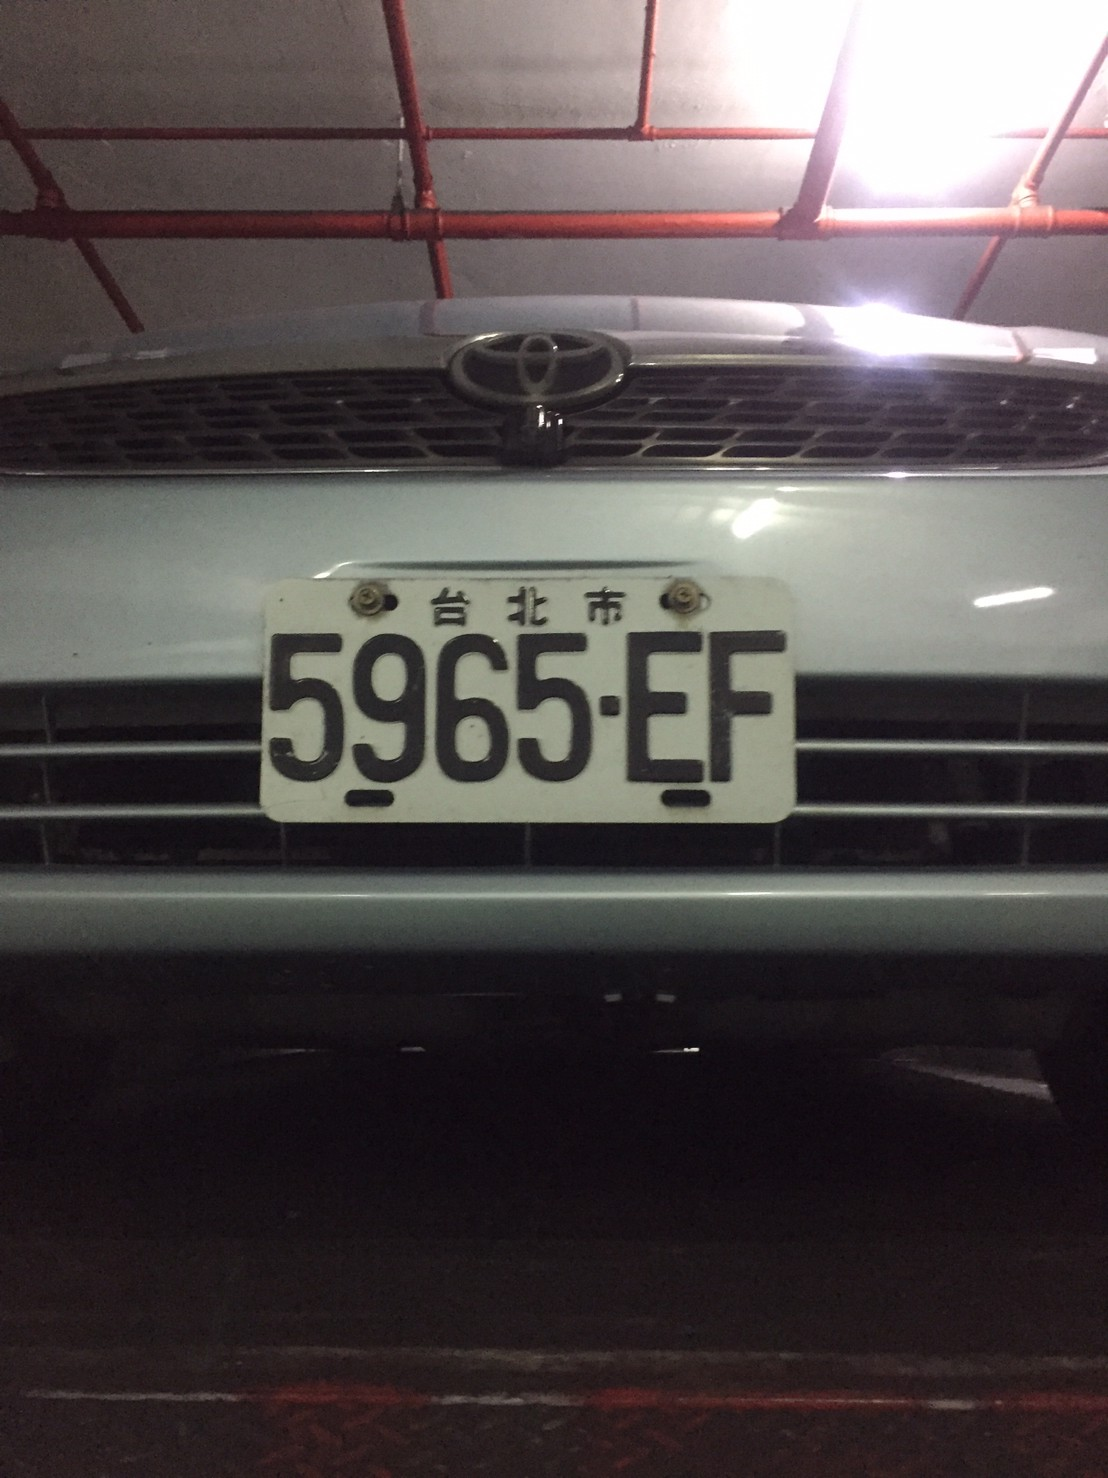LP: (256, 570, 803, 824)
